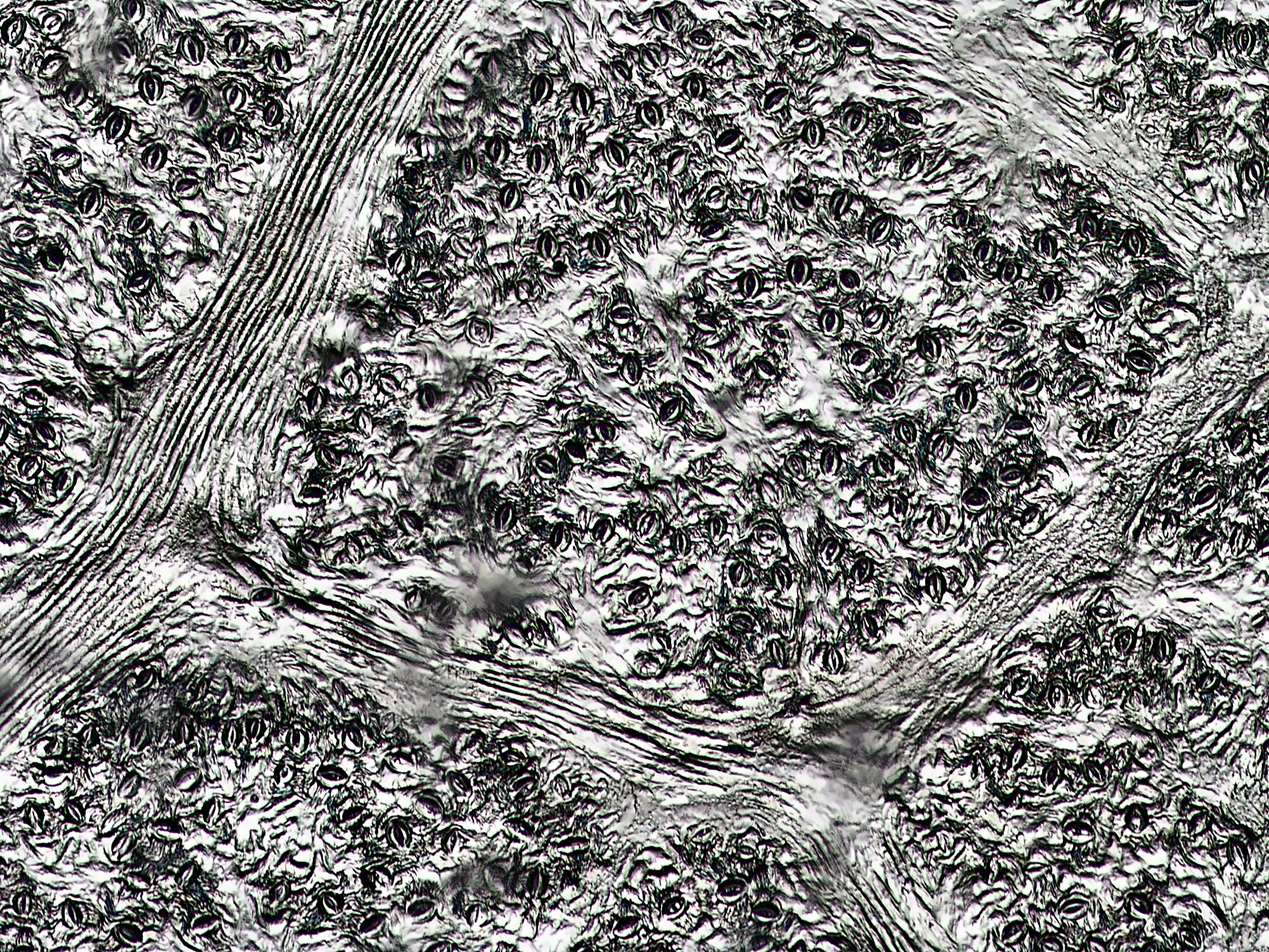stomata: (1095, 83, 1127, 113), (75, 185, 103, 218), (181, 87, 208, 121), (841, 103, 868, 137), (867, 212, 894, 246), (634, 509, 660, 544), (463, 316, 493, 346), (961, 486, 991, 516), (1057, 892, 1090, 919), (138, 70, 163, 105), (176, 33, 205, 63), (413, 795, 444, 823), (99, 805, 130, 833), (404, 897, 436, 924), (1076, 211, 1102, 244), (105, 111, 130, 145), (357, 912, 388, 939), (140, 141, 166, 173), (386, 817, 412, 849), (916, 330, 941, 363), (529, 72, 553, 106), (847, 348, 878, 374), (1, 14, 26, 46), (787, 255, 812, 287), (315, 765, 348, 789), (466, 374, 493, 403), (819, 443, 842, 477), (761, 87, 791, 113), (900, 150, 926, 180), (52, 467, 77, 498), (1038, 274, 1063, 305), (343, 531, 365, 566), (217, 121, 241, 153), (501, 817, 533, 841), (927, 503, 950, 536), (604, 139, 630, 168), (818, 307, 844, 336), (1193, 536, 1219, 565), (536, 230, 561, 260), (221, 81, 246, 111), (38, 53, 68, 78), (1122, 227, 1147, 257), (190, 914, 220, 939), (760, 472, 782, 506), (129, 719, 151, 753), (979, 539, 1010, 563), (571, 85, 594, 117), (1062, 821, 1094, 844), (1226, 837, 1249, 869), (1193, 485, 1219, 513), (446, 770, 472, 798), (1152, 631, 1174, 664), (716, 129, 745, 154), (666, 149, 691, 178), (116, 769, 141, 798), (175, 859, 200, 888), (398, 509, 422, 539), (447, 418, 487, 436), (1191, 30, 1215, 60), (1124, 803, 1148, 833), (1230, 522, 1251, 556), (740, 268, 763, 299), (973, 238, 996, 269), (494, 501, 517, 532), (1233, 24, 1255, 56), (716, 879, 748, 901), (1185, 79, 1211, 106), (1127, 892, 1153, 919), (658, 397, 684, 424), (500, 622, 527, 648), (172, 176, 201, 200), (862, 304, 886, 333), (1057, 329, 1086, 353), (1229, 426, 1253, 455), (997, 257, 1021, 286), (1187, 119, 1208, 152), (888, 489, 909, 522), (525, 144, 548, 174), (683, 72, 706, 102), (828, 187, 851, 217), (1125, 350, 1155, 373), (1004, 415, 1034, 438), (60, 898, 82, 929), (202, 794, 224, 825), (314, 444, 340, 470), (1113, 38, 1139, 64), (650, 6, 675, 33), (789, 185, 814, 212), (868, 381, 895, 406), (590, 518, 615, 545), (176, 766, 203, 791), (892, 417, 916, 445), (391, 303, 420, 326), (52, 147, 81, 170), (298, 483, 327, 506), (801, 119, 824, 148), (1094, 297, 1123, 320), (549, 522, 572, 551), (996, 464, 1026, 486), (752, 901, 782, 923), (526, 865, 546, 898), (955, 382, 976, 413), (926, 573, 947, 604), (670, 527, 691, 558), (17, 454, 43, 479), (1018, 371, 1044, 396), (1001, 921, 1027, 946), (751, 523, 776, 549), (1069, 374, 1096, 398), (749, 188, 768, 222), (486, 134, 509, 162), (127, 271, 155, 294), (418, 383, 441, 411), (115, 923, 143, 946), (613, 916, 641, 939), (306, 385, 326, 417), (389, 248, 411, 277), (822, 645, 844, 674), (705, 512, 727, 541), (384, 752, 414, 773), (220, 719, 241, 749), (637, 102, 662, 127), (836, 269, 861, 294), (941, 264, 967, 288), (711, 640, 737, 664), (342, 804, 368, 828), (1040, 763, 1063, 790), (270, 878, 290, 909), (1083, 759, 1105, 787), (851, 556, 873, 584), (785, 453, 807, 481), (150, 820, 178, 842), (556, 837, 590, 855), (620, 354, 641, 383), (341, 367, 362, 396), (24, 803, 45, 832), (298, 537, 322, 562), (1083, 679, 1103, 709), (1196, 670, 1221, 694), (660, 896, 685, 920), (343, 723, 363, 753), (267, 48, 290, 74), (589, 232, 611, 259), (793, 32, 820, 54), (1034, 233, 1056, 260), (1188, 812, 1210, 839), (729, 561, 751, 588), (250, 586, 277, 608), (172, 718, 194, 745), (997, 319, 1028, 338), (615, 189, 636, 217), (226, 27, 247, 55), (388, 441, 416, 462), (843, 35, 872, 55), (771, 563, 791, 592), (40, 247, 64, 271), (355, 406, 373, 438), (464, 903, 488, 927), (628, 585, 652, 609), (609, 60, 632, 85), (126, 209, 149, 234), (286, 728, 309, 753), (500, 183, 522, 209), (63, 799, 85, 825), (20, 386, 47, 407), (820, 537, 841, 564), (932, 432, 952, 460), (33, 417, 56, 441), (637, 47, 660, 71), (1178, 927, 1201, 951), (534, 454, 557, 478), (1246, 158, 1265, 187), (1007, 741, 1026, 770), (858, 613, 877, 642), (64, 82, 86, 107), (706, 186, 728, 211), (1177, 459, 1203, 480), (415, 271, 445, 289), (1048, 682, 1068, 709), (441, 828, 461, 855), (765, 323, 792, 343), (1114, 627, 1133, 655), (13, 888, 32, 916), (243, 718, 266, 741), (1146, 76, 1170, 98), (1091, 601, 1115, 623), (564, 440, 586, 464), (753, 357, 777, 379), (273, 762, 295, 786), (263, 101, 284, 126), (41, 11, 62, 36), (12, 223, 37, 244), (873, 452, 894, 477), (702, 221, 728, 241), (450, 235, 473, 257), (459, 149, 477, 177), (689, 30, 713, 51), (692, 314, 720, 332), (898, 108, 923, 128), (1079, 421, 1099, 446), (724, 671, 749, 691), (1162, 512, 1181, 538), (876, 139, 898, 161), (1012, 673, 1034, 695), (1106, 416, 1127, 439), (735, 840, 758, 861), (592, 420, 615, 441), (27, 171, 51, 191), (319, 891, 339, 915), (569, 174, 588, 199), (728, 614, 753, 633), (1020, 507, 1040, 530), (610, 306, 634, 325), (1022, 862, 1050, 878), (770, 639, 786, 667), (113, 40, 132, 63), (1060, 634, 1084, 652), (1130, 687, 1148, 711), (379, 374, 399, 395), (953, 210, 974, 230), (514, 278, 533, 300), (1144, 280, 1163, 302), (936, 830, 954, 852), (405, 588, 422, 611)
